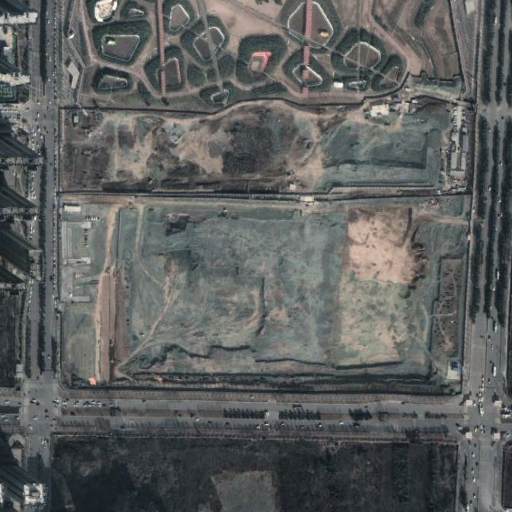cw: (58, 105, 478, 390)
